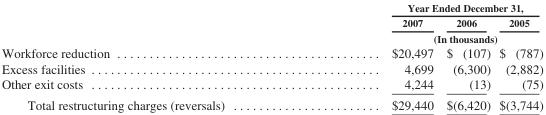table: (0, 1, 542, 111)
table column: (0, 1, 307, 111), (307, 1, 439, 111), (439, 1, 494, 111), (494, 1, 542, 111)
table column header: (0, 1, 542, 44)
table row: (0, 76, 542, 94), (0, 94, 542, 111), (0, 14, 542, 30), (0, 44, 542, 60), (0, 60, 542, 76), (0, 30, 542, 44), (0, 1, 542, 14)
table spanning cell: (307, 30, 542, 44), (307, 1, 542, 14)
